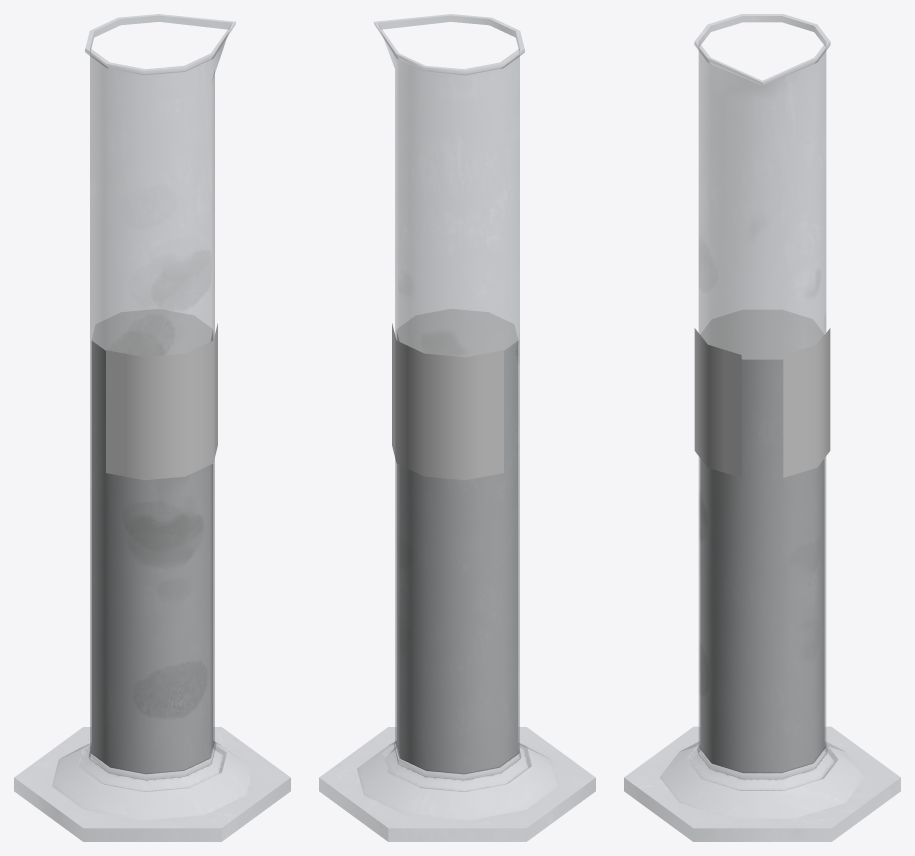
File: CylinderNewSmoothLabel.glb
The picture shows the model from 3 angles, left to right: view 1: azimuth 30°, elevation 25°; view 2: azimuth 150°, elevation 25°; view 3: azimuth 270°, elevation 25°; orthographic projection.
Parts seen in each view (by area): view 1: BeakerwOpacity, BeakerLiquid, Label; view 2: BeakerwOpacity, BeakerLiquid, LabelBack; view 3: BeakerwOpacity, BeakerLiquid, Label, LabelBack.
Part boxes in pixels (x1=…): BeakerwOpacity: x1=14, y1=14, x2=290, y2=841; BeakerLiquid: x1=91, y1=309, x2=213, y2=774; Label: x1=106, y1=323, x2=217, y2=480; BeakerwOpacity: x1=319, y1=14, x2=595, y2=841; BeakerLiquid: x1=396, y1=309, x2=518, y2=774; LabelBack: x1=392, y1=323, x2=503, y2=480; BeakerwOpacity: x1=624, y1=14, x2=900, y2=841; BeakerLiquid: x1=700, y1=309, x2=824, y2=773; Label: x1=694, y1=328, x2=741, y2=477; LabelBack: x1=783, y1=328, x2=830, y2=477.
Size of the model in its own units: 0.0863 by 0.2976 by 0.0996.
Materials: 1 (1 with a texture image).
